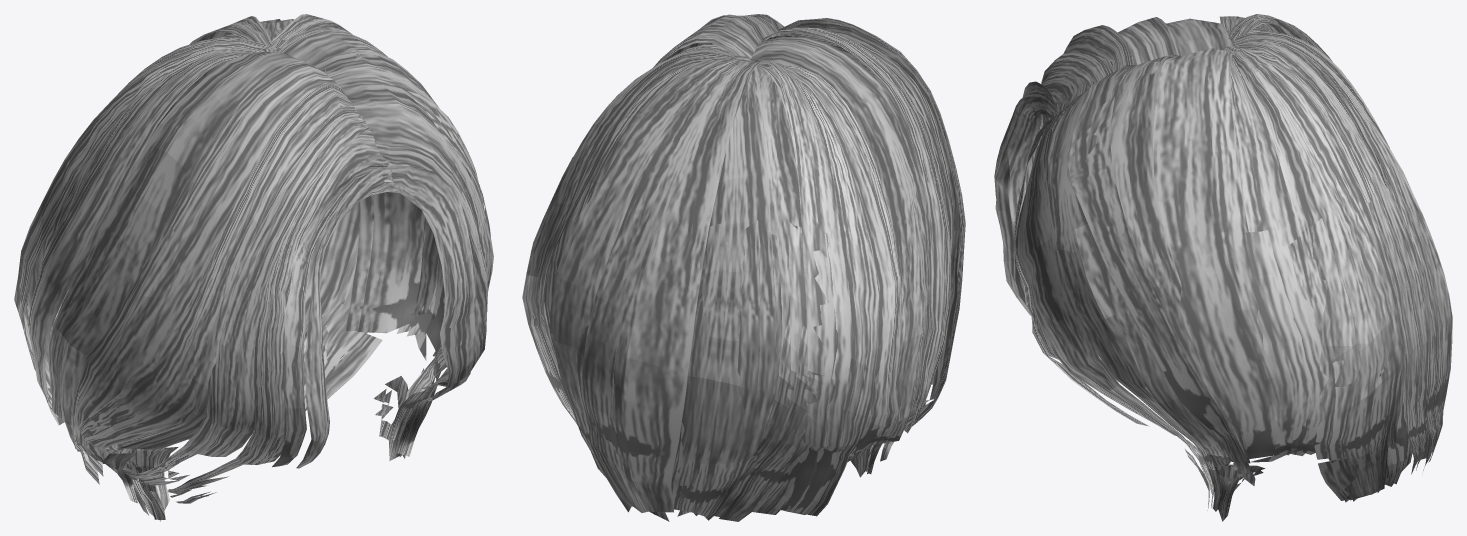
The model's file is daz_hair_sport_ponytail.glb.
The picture shows the model from 3 angles, left to right: view 1: azimuth 30°, elevation 25°; view 2: azimuth 150°, elevation 25°; view 3: azimuth 270°, elevation 25°; orthographic projection. The views are drawn at different scales.
Parts seen in each view (by area): view 1: daz_hair_sport_ponytail; view 2: daz_hair_sport_ponytail; view 3: daz_hair_sport_ponytail.
Boxes of the visible parts, <box> form: daz_hair_sport_ponytail: <box>14,14,493,521</box>; daz_hair_sport_ponytail: <box>522,14,965,521</box>; daz_hair_sport_ponytail: <box>994,14,1452,521</box>.
Size of the model in its own units: 0.2296 by 0.2479 by 0.2381.
Materials: 1 (1 with a texture image).
